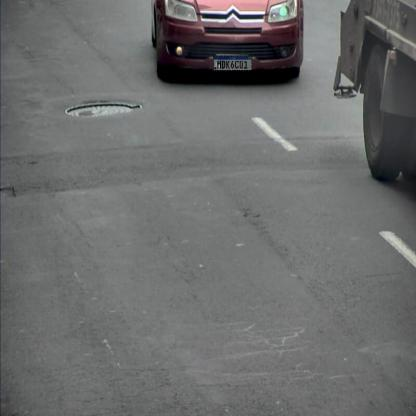PlacaM: (213, 55, 252, 71)
